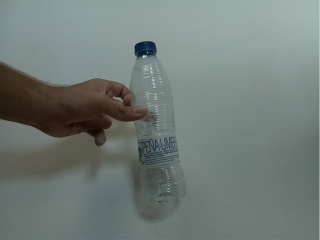botella plastico: (126, 38, 189, 206)
